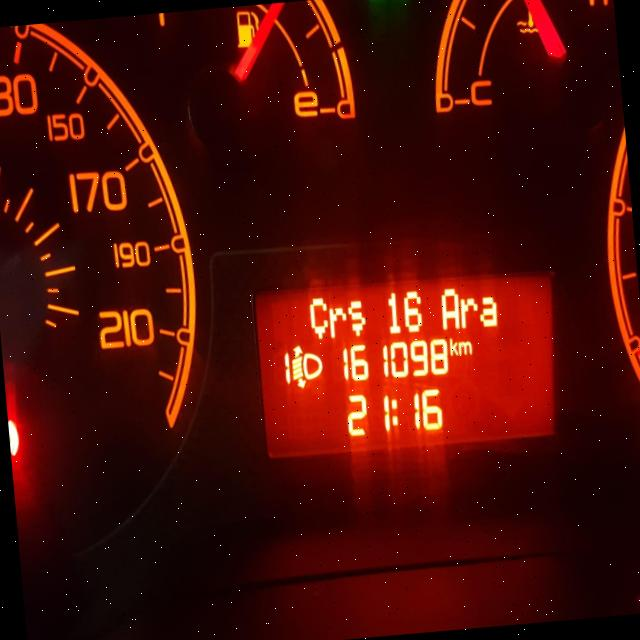odometer: (248, 262, 568, 465)
